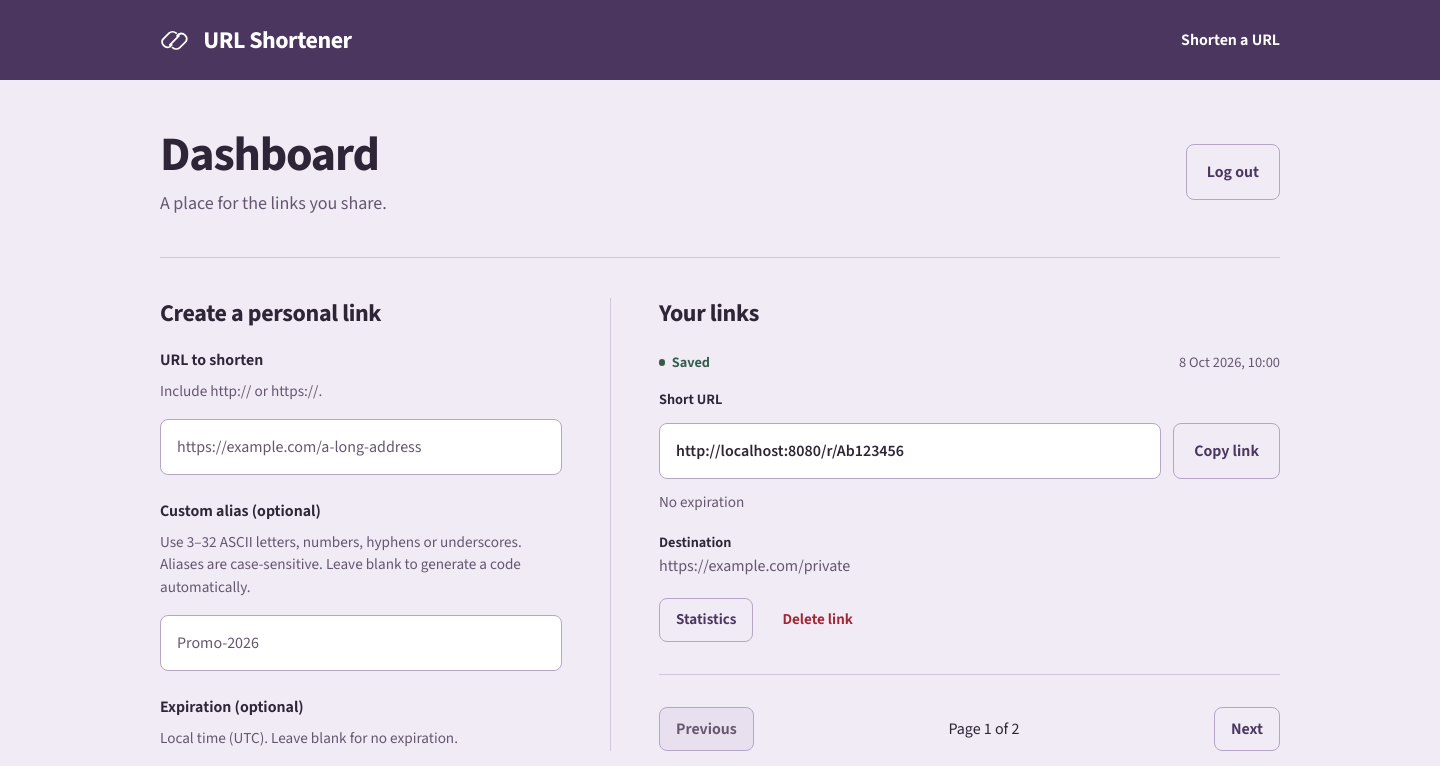
Test case: esce sostituendo la cronologia e impedisce di riaprire la dashboard
The image size is (1440, 766).
Check: the text "Saved" is shown, box [659,352,710,373]
Click the button "Log out". click: (1233, 172)
box: [1186,144,1280,200]
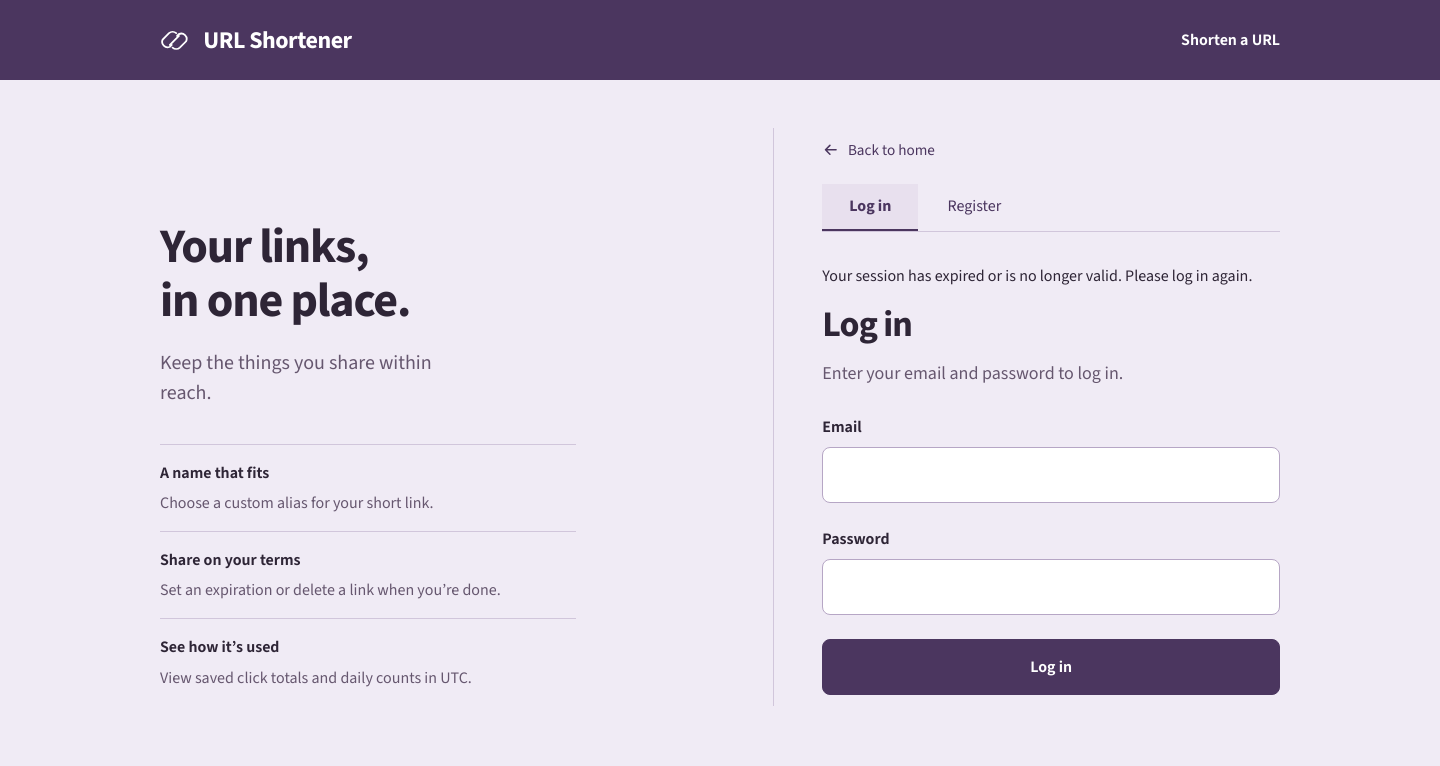
Check: the text "https://example.com/private" is gone
